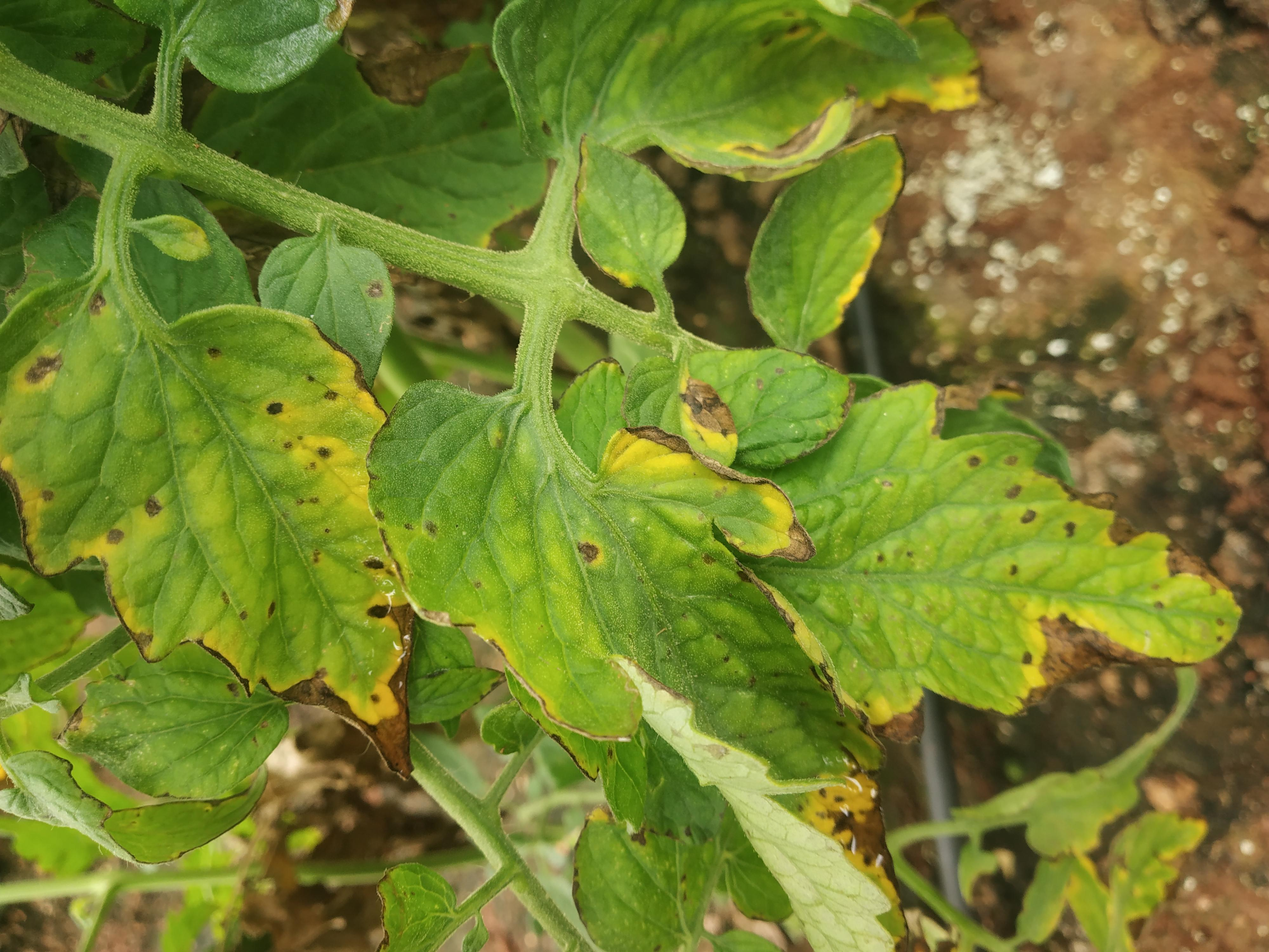Early Blight: (204, 0, 902, 318), (3, 415, 709, 681), (299, 565, 773, 934), (257, 272, 762, 485)
